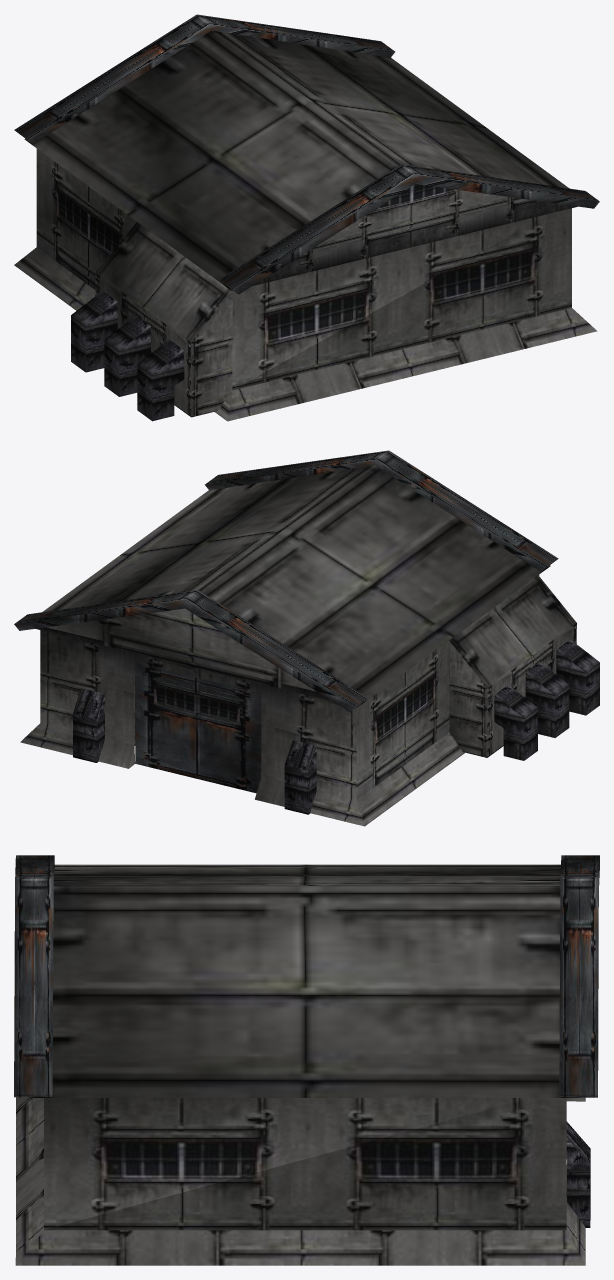
File: barracks.obj
The picture shows the model from 3 angles, top to bottom: view 1: azimuth 30°, elevation 25°; view 2: azimuth 150°, elevation 25°; view 3: azimuth 270°, elevation 25°; orthographic projection. The views are drawn at different scales.
Visible parts, largest first — view 1: Box01_FACES06; view 2: Box01_FACES06; view 3: Box01_FACES06.
Part boxes in pixels (left/top/right/bottom): Box01_FACES06: left=14, top=14, right=599, bottom=421; Box01_FACES06: left=14, top=450, right=599, bottom=826; Box01_FACES06: left=14, top=855, right=599, bottom=1265.
Bounding box in the file's own units: 253 × 113 × 224.
Materials: 5 (5 with a texture image).
